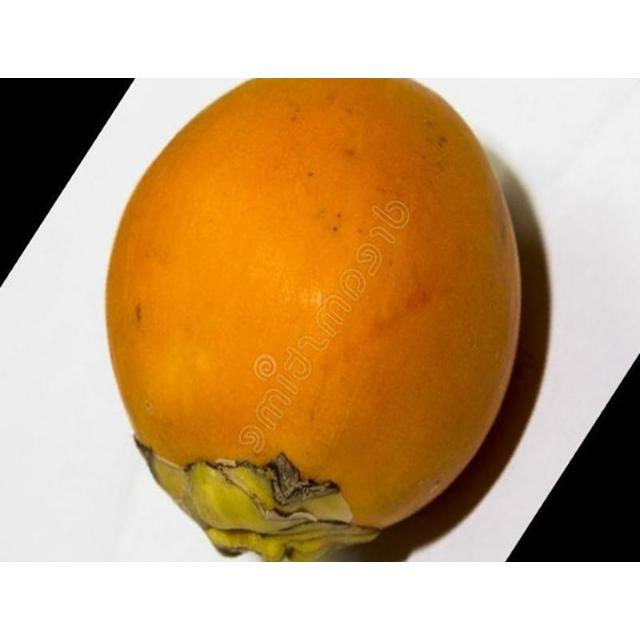good: (102, 78, 523, 561)
